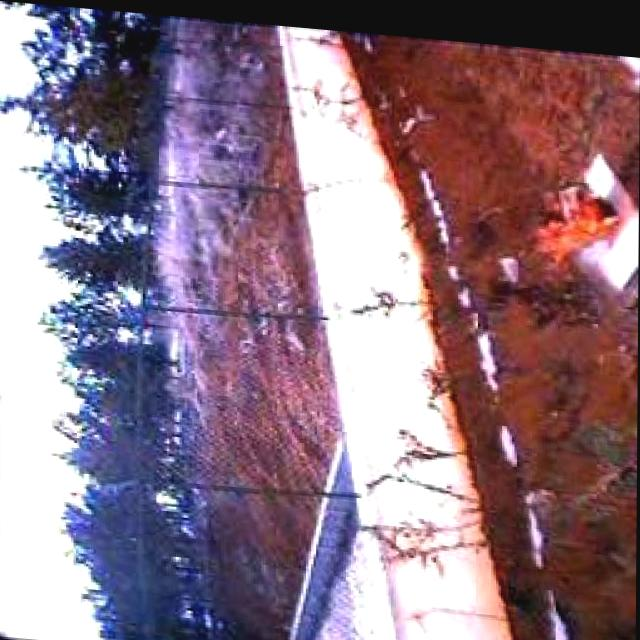helmet: (522, 170, 624, 263)
